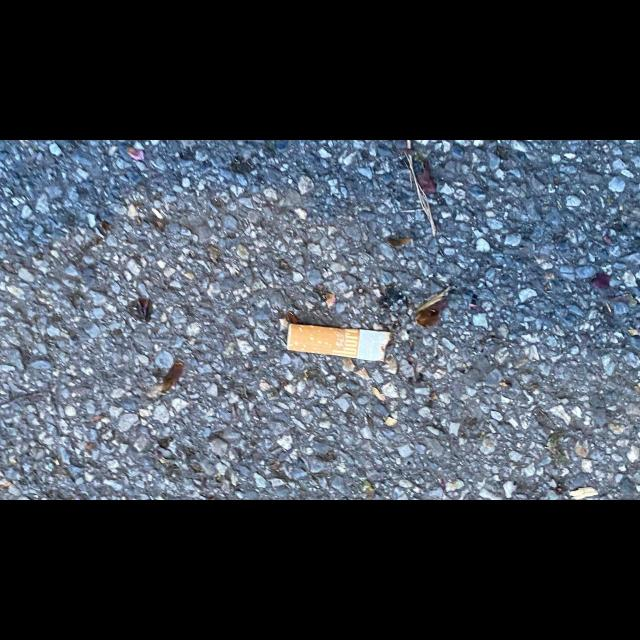cigarette: (285, 322, 394, 362)
